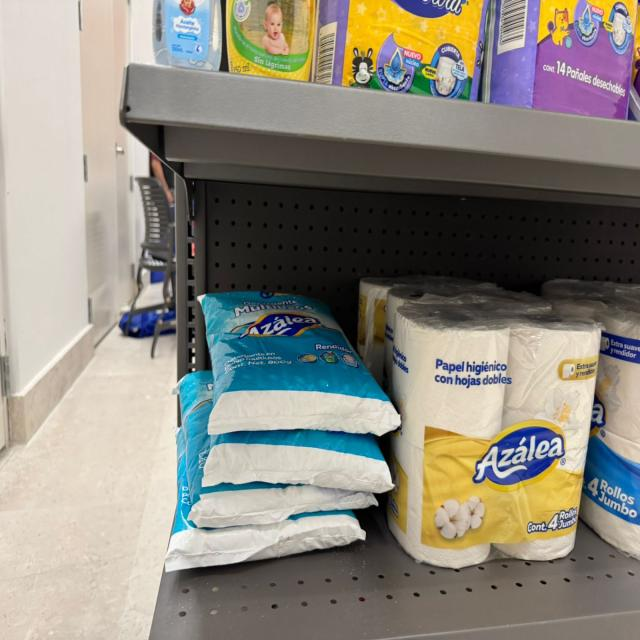DETERGENTE AZALEA MULTIUSOS 800G: (191, 285, 405, 443), (173, 369, 378, 532), (163, 423, 367, 573), (174, 365, 397, 498)
PAPEL HIGIENICO AZALEA 4 ROLLOS 350 HOJAS: (390, 300, 602, 566), (358, 267, 505, 298), (392, 288, 540, 310)
PAPEL HIGIENICO AZALEA 4S CON AROMA: (549, 267, 640, 564)
